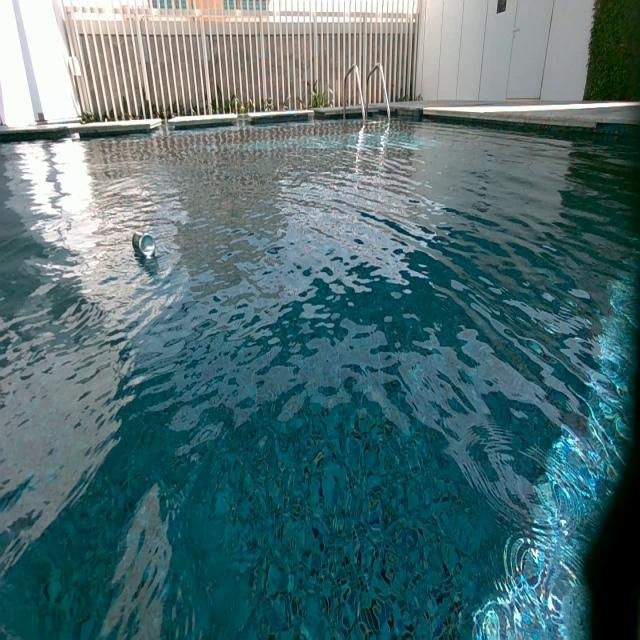Cans: (132, 231, 156, 258)
